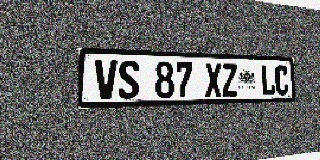7: (175, 62, 193, 98)
8: (155, 61, 174, 98)
C: (275, 65, 289, 95)
L: (261, 64, 275, 96)
S: (118, 60, 139, 99)
V: (95, 60, 117, 100)
X: (205, 63, 222, 97)
Z: (222, 63, 238, 97)
